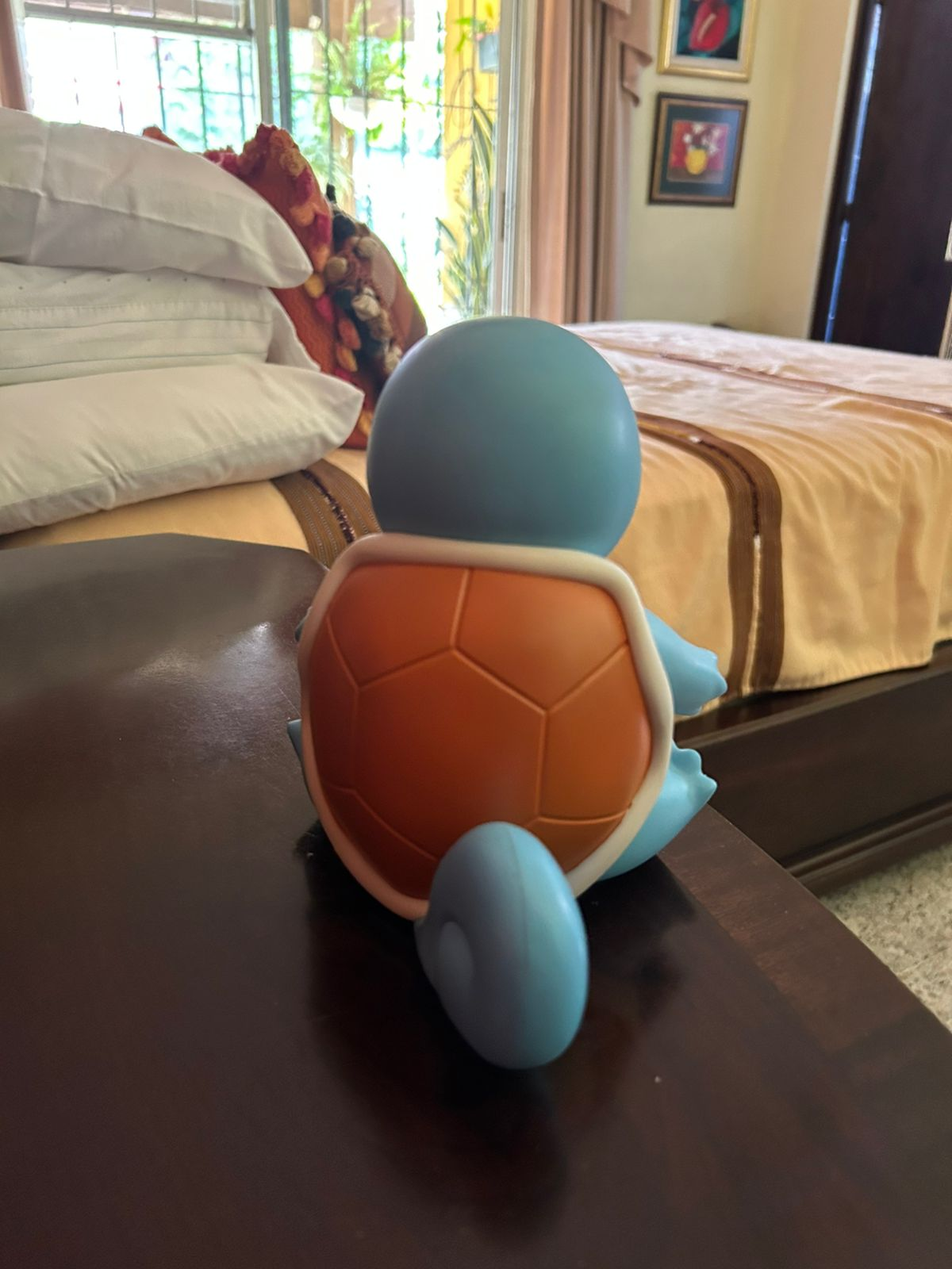Squirtle: (294, 318, 724, 1066)
